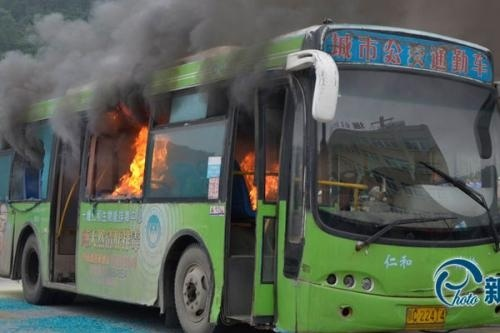fire: (110, 107, 169, 197), (238, 151, 280, 207)
